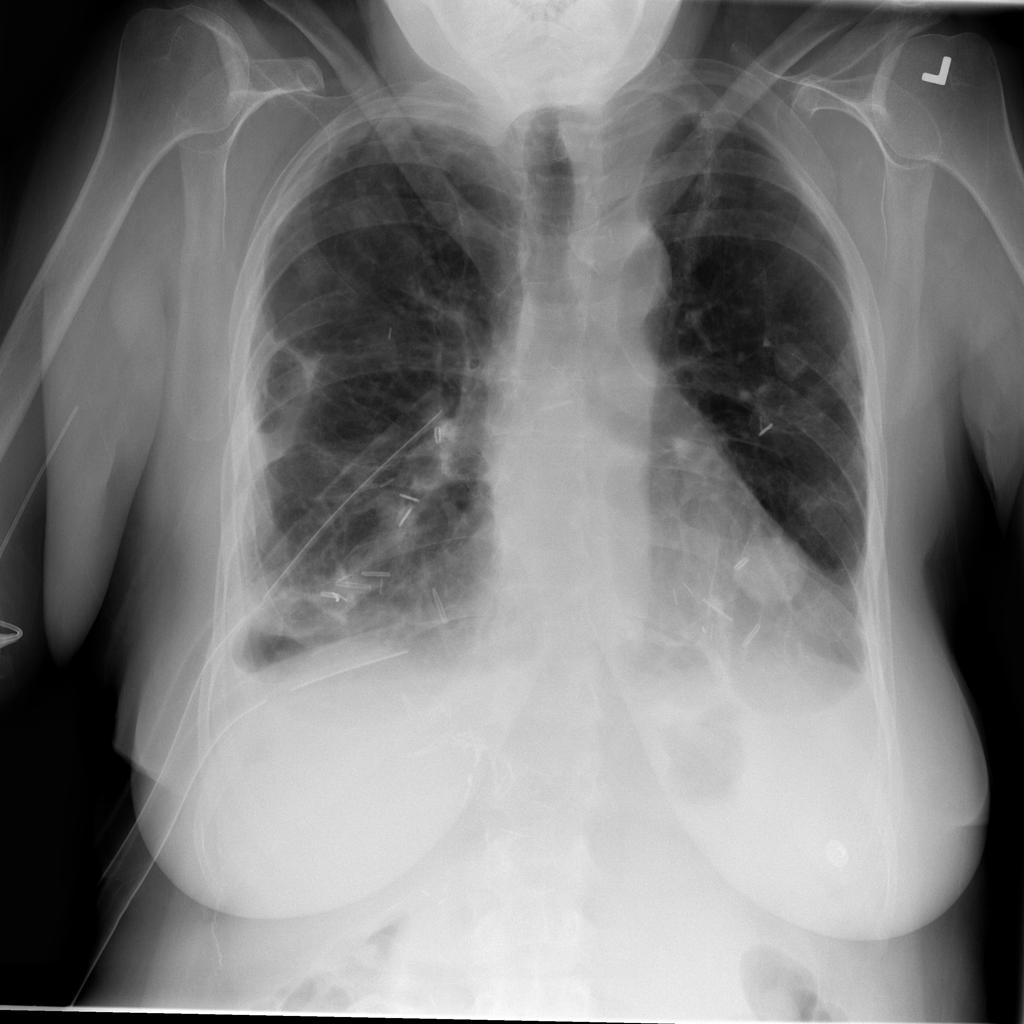nodule: (722, 510, 824, 621), (759, 324, 824, 399)
